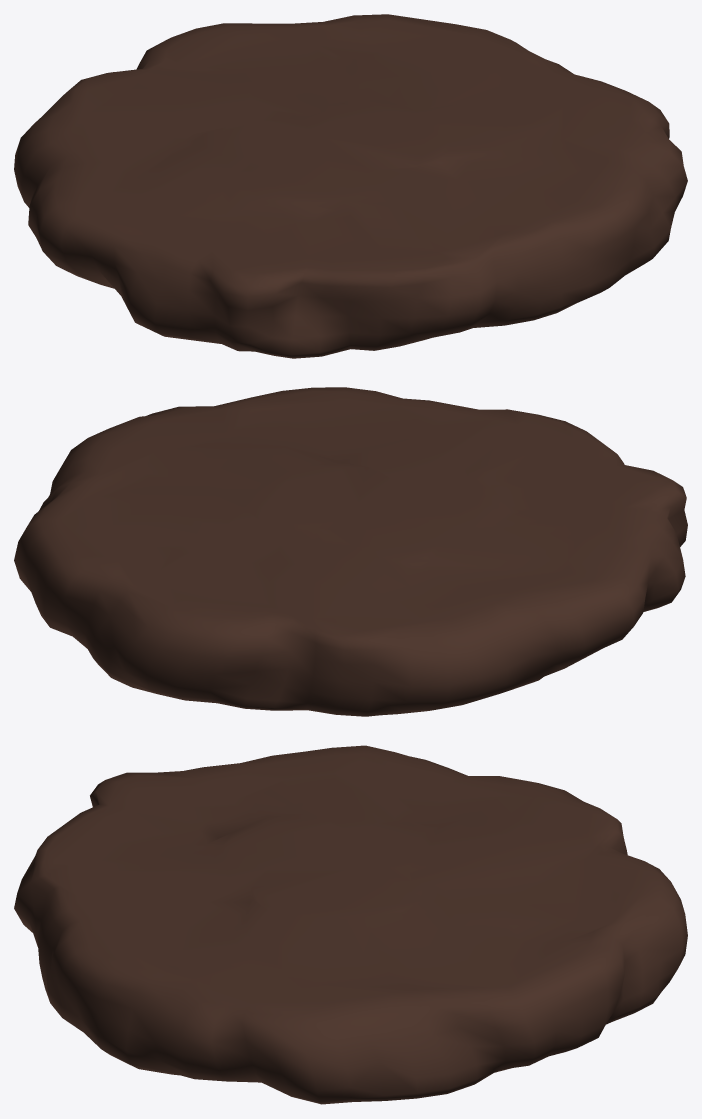
File: steak.FBX
3 renders of one model, top to bottom at view 1: azimuth 30°, elevation 25°; view 2: azimuth 150°, elevation 25°; view 3: azimuth 270°, elevation 25°, orthographic. The views are drawn at different scales.
Visible parts, largest first — view 1: steak; view 2: steak; view 3: steak.
Part boxes in pixels (<box>): steak: <box>14,14,687,358</box>; steak: <box>14,387,687,716</box>; steak: <box>14,745,687,1104</box>.
Size of the model in its own units: 19.35 by 2.97 by 18.47.
